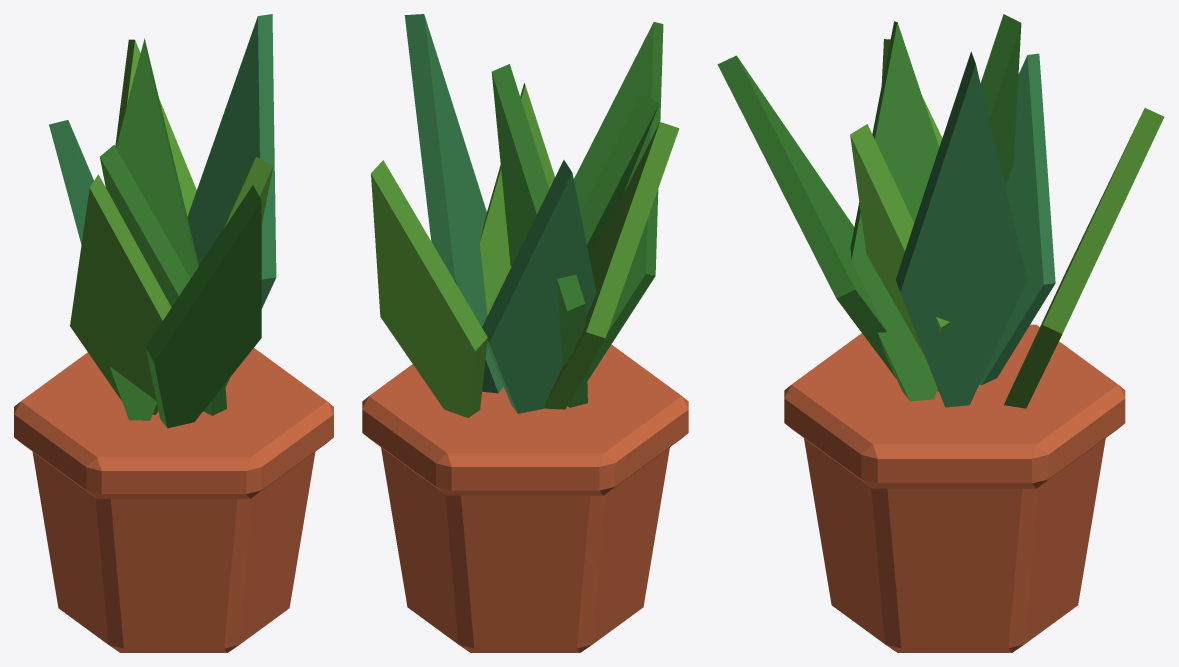
File: plant_snake.glb
3 views of the same model, side by side, from view 1: azimuth 30°, elevation 25°; view 2: azimuth 150°, elevation 25°; view 3: azimuth 270°, elevation 25° (orthographic). The views are drawn at different scales.
Visible parts, largest first — view 1: plant_snake; view 2: plant_snake; view 3: plant_snake.
Part boxes in pixels (x1=…): plant_snake: x1=14, y1=14, x2=333, y2=652; plant_snake: x1=362, y1=14, x2=688, y2=652; plant_snake: x1=717, y1=14, x2=1164, y2=652.
Bounding box in the file's own units: 0.2806 × 0.6171 × 0.4115.
